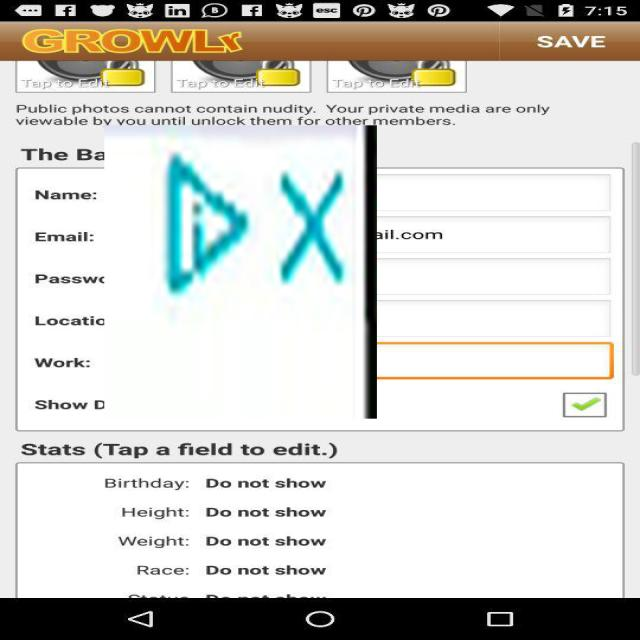sneaking: (104, 125, 377, 419)
